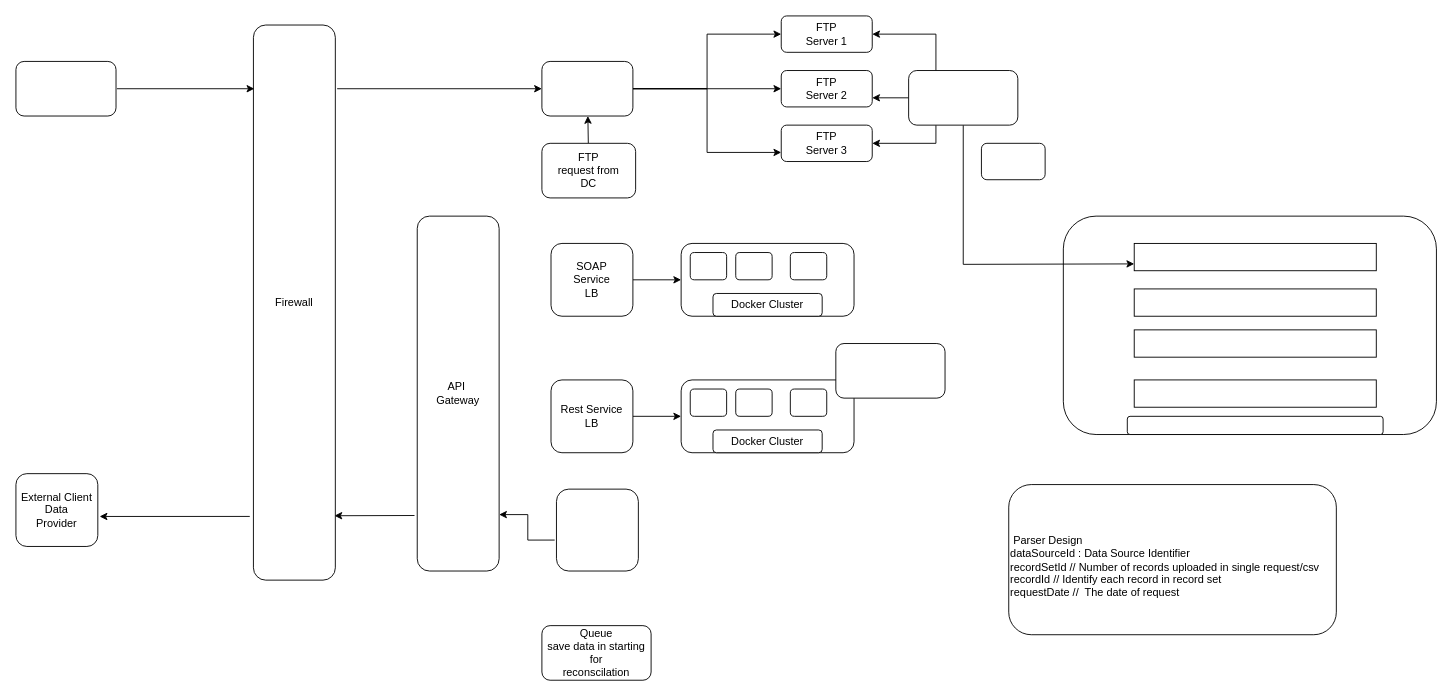
The diagram is 1452 pixels wide and 696 high, and some of its shapes have lost their labels. Here are the shapes that lost their labels. From the top down, the box of each, then its label:
(15, 61, 116, 116): External Client outside DC
(541, 61, 633, 116): FTP Load Balancer
(908, 70, 1018, 125): Filewatcher/Kafka FTP Connector read from file location
(981, 142, 1045, 180): Pre conversion can be done
(1126, 415, 1383, 435): Kafka Cluster
(556, 488, 638, 571): Scheduled REST/SOAP Call to Fetch Data from External Source
